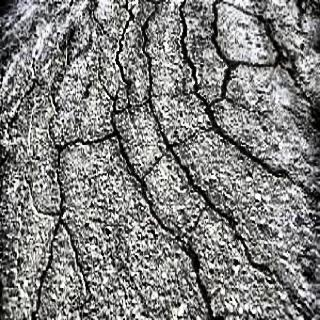alligator-crack: (16, 12, 312, 304)
